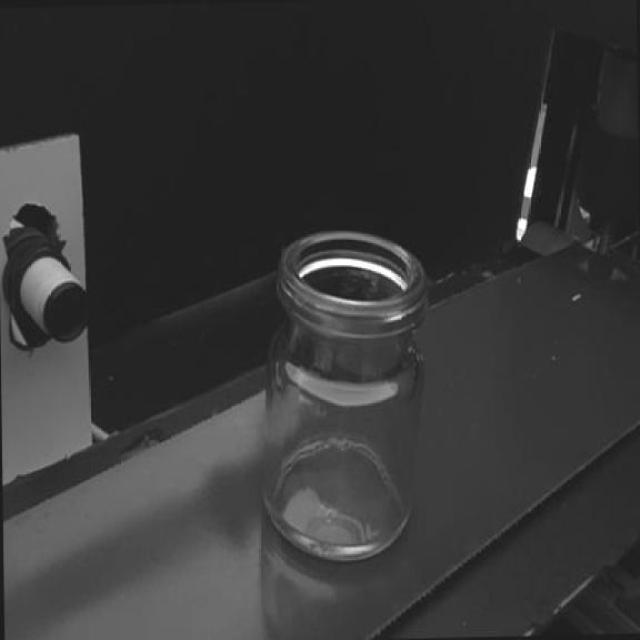glass: (253, 220, 438, 573)
